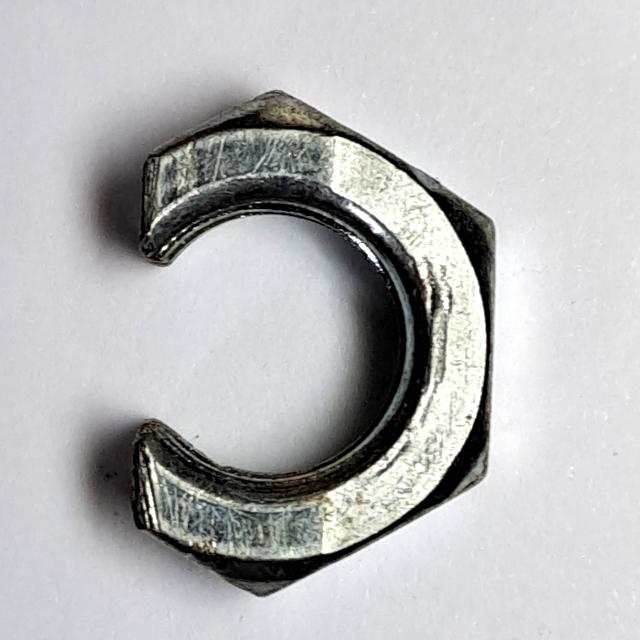Fracture: (121, 79, 508, 606)
